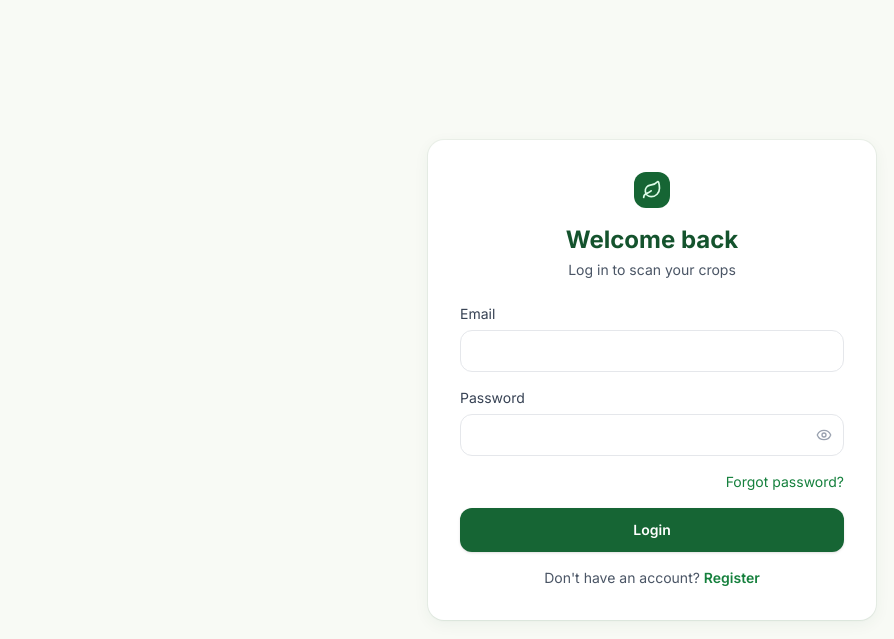
Test: Login page ↔ API › stores the token and redirects to the dashboard on success
The width and height of the screenshot is (894, 639).
Type "ram@example.com" into the field labelled "Email". click: [652, 351]
box: 460,330 -> 844,372
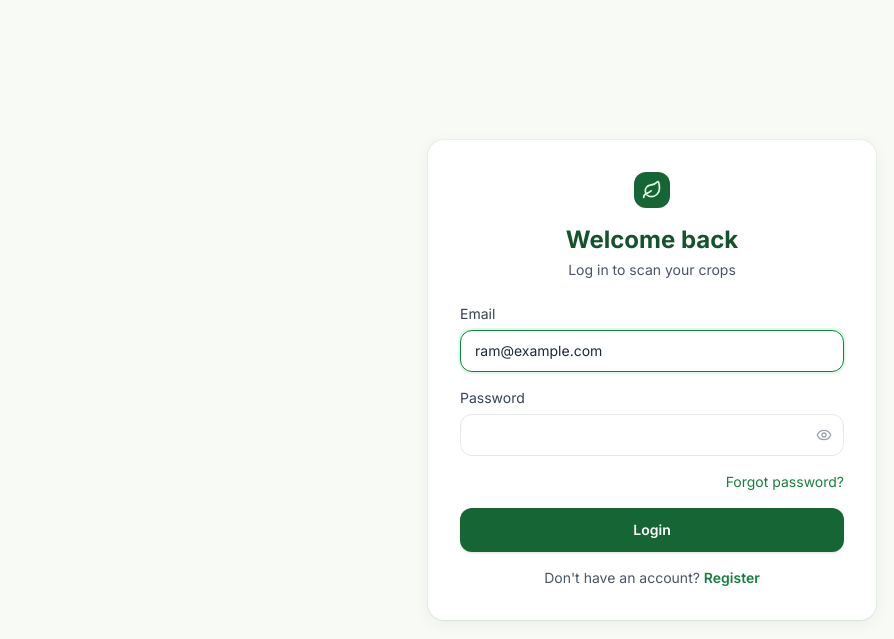
Type "Kisan1234" into the password field labelled "Password". click: [652, 435]
box: 460,414 -> 844,456
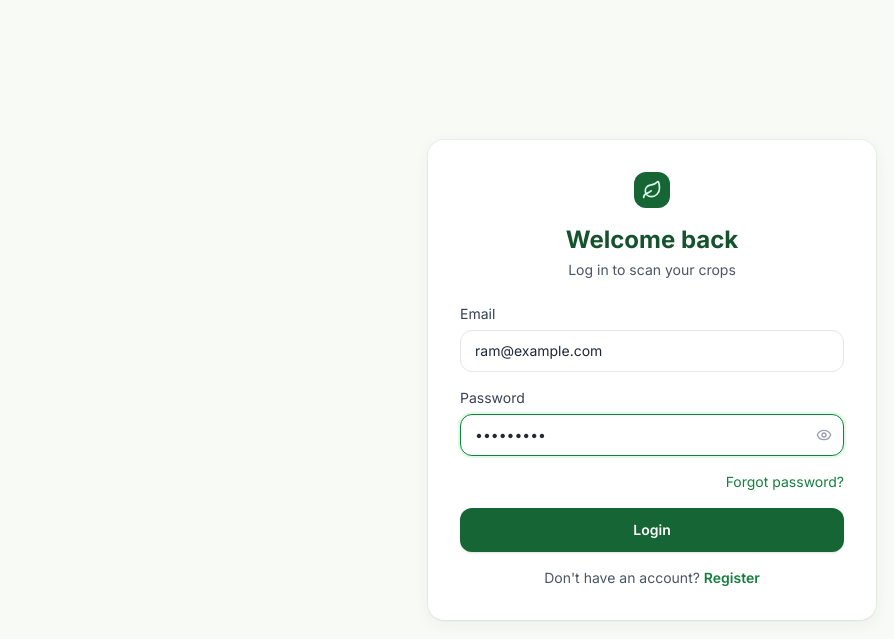
Click the button "Login". click: [652, 530]
box: 460,508 -> 844,552
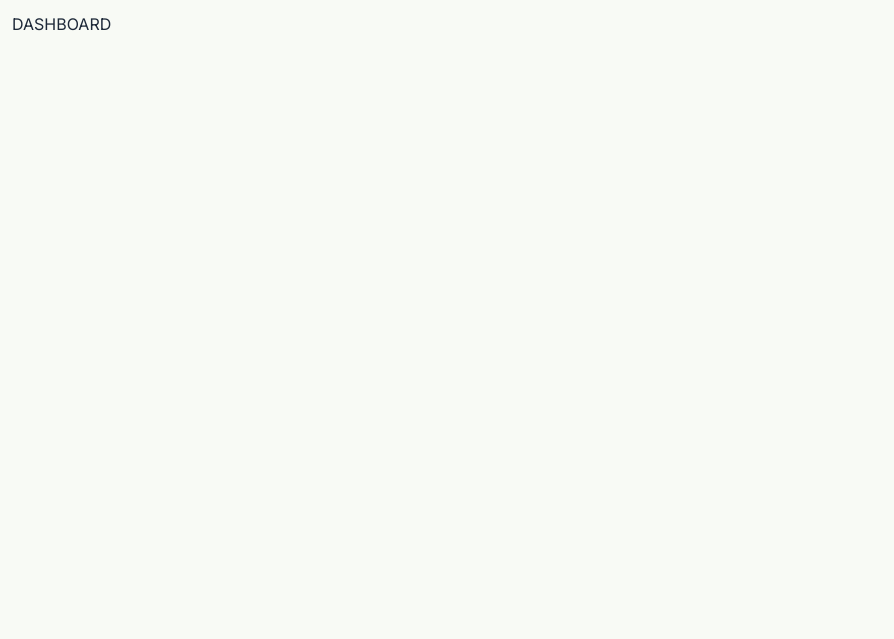
Expected: the text "DASHBOARD" is shown, 12,14 -> 111,34
